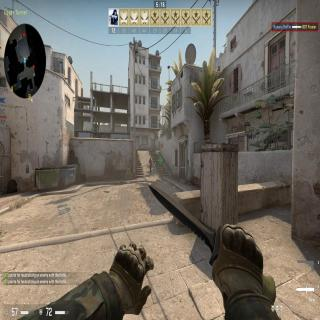T-Body: (148, 157, 152, 173)
T-Head: (150, 158, 151, 160)
